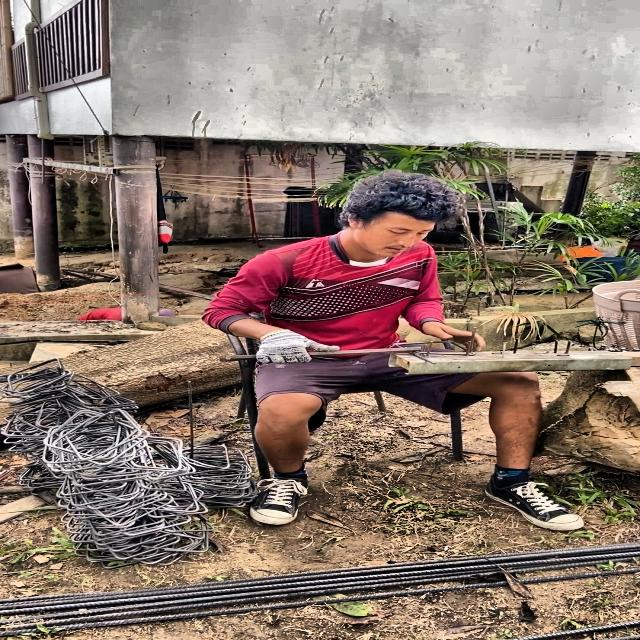gloved: (247, 327, 340, 370)
not-gloved: (422, 314, 496, 348)
